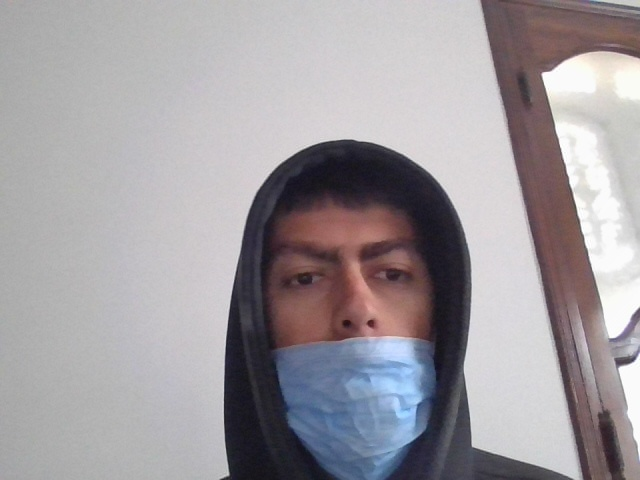mask_weared_incorrect: (256, 167, 481, 479)
